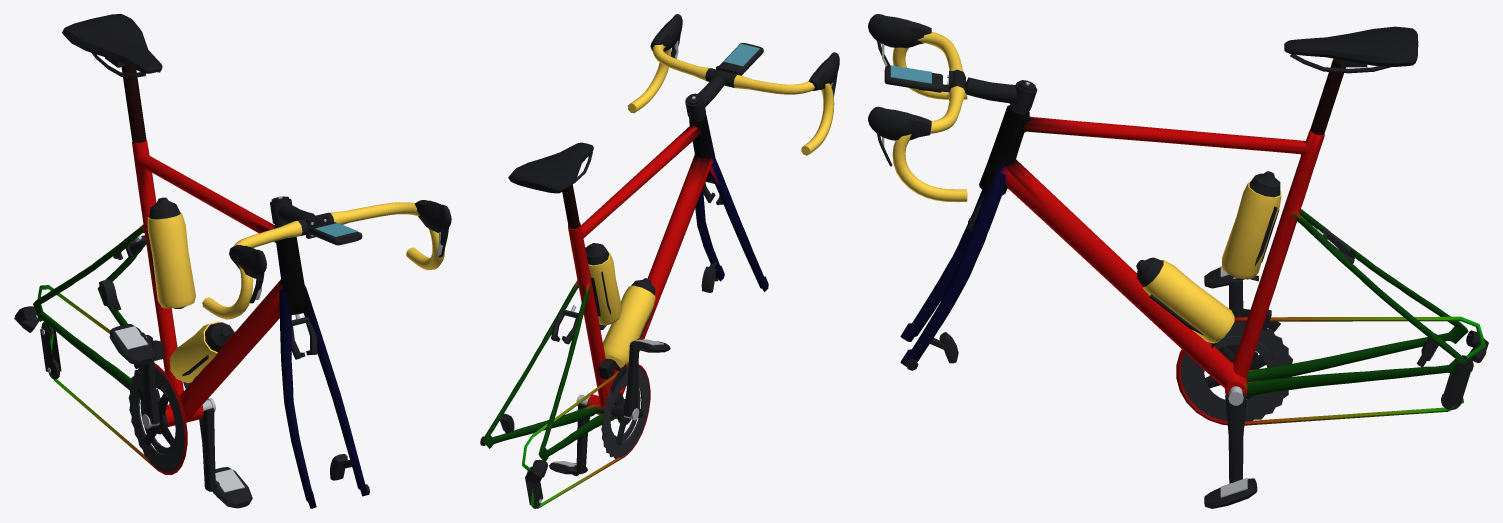
Rendered from climb.glb.
3 views of the same model, side by side, from view 1: azimuth 30°, elevation 25°; view 2: azimuth 150°, elevation 25°; view 3: azimuth 270°, elevation 25° (orthographic). The views are drawn at different scales.
Visible parts, largest first — view 1: frame, cockpit, opt_bottles, crankset, saddle, opt_derailleur, pedal_R, pedal_L, opt_brakes_rim, opt_brakes_disc; view 2: frame, cockpit, opt_bottles, crankset, saddle, opt_derailleur, opt_brakes_rim, opt_brakes_disc, pedal_R; view 3: frame, cockpit, opt_bottles, crankset, saddle, opt_derailleur, opt_brakes_disc, pedal_L.
Boxes of the visible parts, left/top/right/bottom form: frame: left=33, top=65, right=367, bottom=508; cockpit: left=202, top=196, right=451, bottom=319; opt_bottles: left=146, top=197, right=234, bottom=388; crankset: left=128, top=335, right=215, bottom=491; saddle: left=62, top=14, right=162, bottom=77; opt_derailleur: left=14, top=306, right=164, bottom=379; pedal_R: left=109, top=324, right=155, bottom=365; pedal_L: left=213, top=467, right=252, bottom=508; opt_brakes_rim: left=113, top=235, right=317, bottom=359; opt_brakes_disc: left=99, top=279, right=369, bottom=494; frame: left=483, top=114, right=768, bottom=508; cockpit: left=627, top=14, right=839, bottom=155; opt_bottles: left=585, top=243, right=655, bottom=370; crankset: left=576, top=340, right=649, bottom=474; saddle: left=508, top=142, right=593, bottom=193; opt_derailleur: left=525, top=359, right=626, bottom=508; opt_brakes_rim: left=551, top=181, right=723, bottom=344; opt_brakes_disc: left=480, top=260, right=718, bottom=445; pedal_R: left=631, top=338, right=670, bottom=352; frame: left=900, top=58, right=1485, bottom=425; cockpit: left=868, top=14, right=1037, bottom=202; opt_bottles: left=1136, top=171, right=1281, bottom=348; crankset: left=1181, top=279, right=1292, bottom=483; saddle: left=1284, top=26, right=1418, bottom=73; opt_derailleur: left=1241, top=308, right=1488, bottom=410; opt_brakes_disc: left=906, top=332, right=1467, bottom=374; pedal_L: left=1204, top=478, right=1257, bottom=508.
Size of the model in its own units: 0.4648 by 0.8869 by 1.13.
